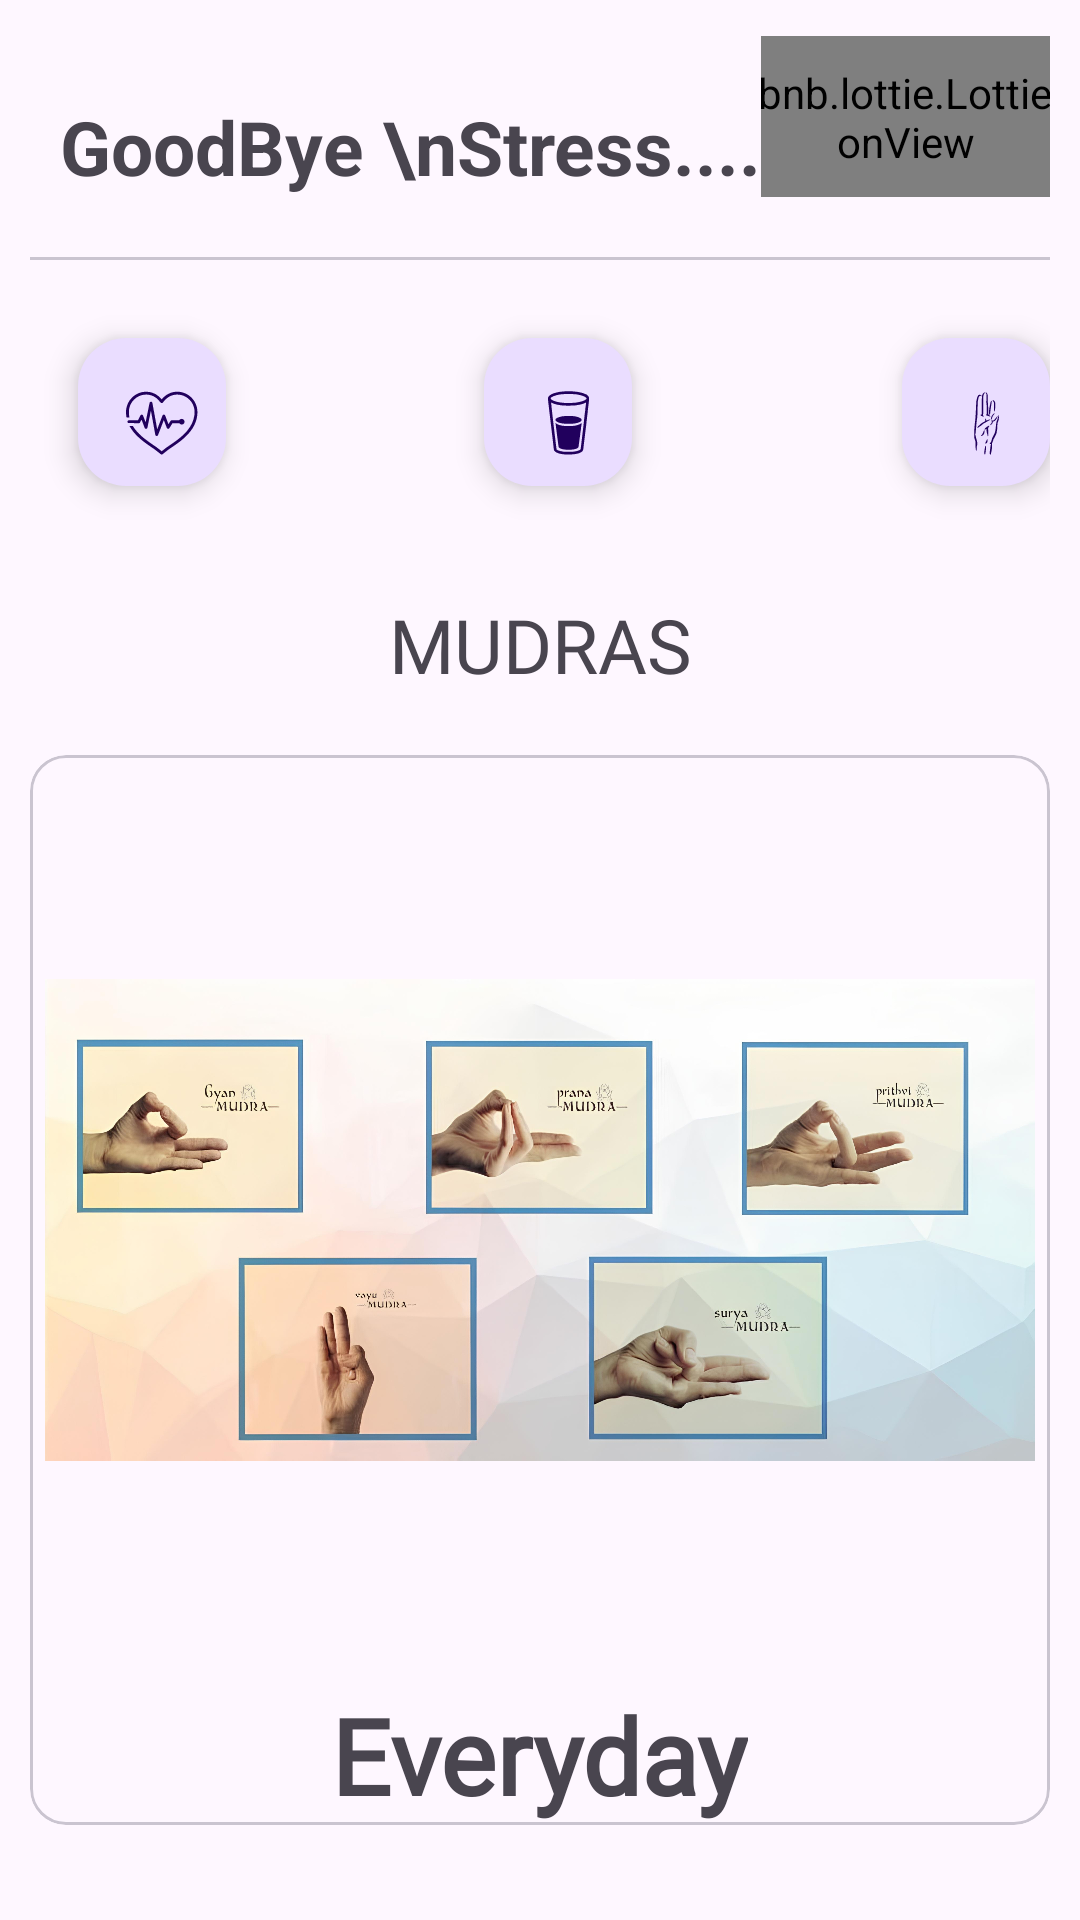

Locate icon controls on the screen. Image size 1080*1920, boxes as detection(x1, y1, x2, y2).
heart: detection(78, 338, 226, 486)
water: detection(548, 391, 589, 455)
